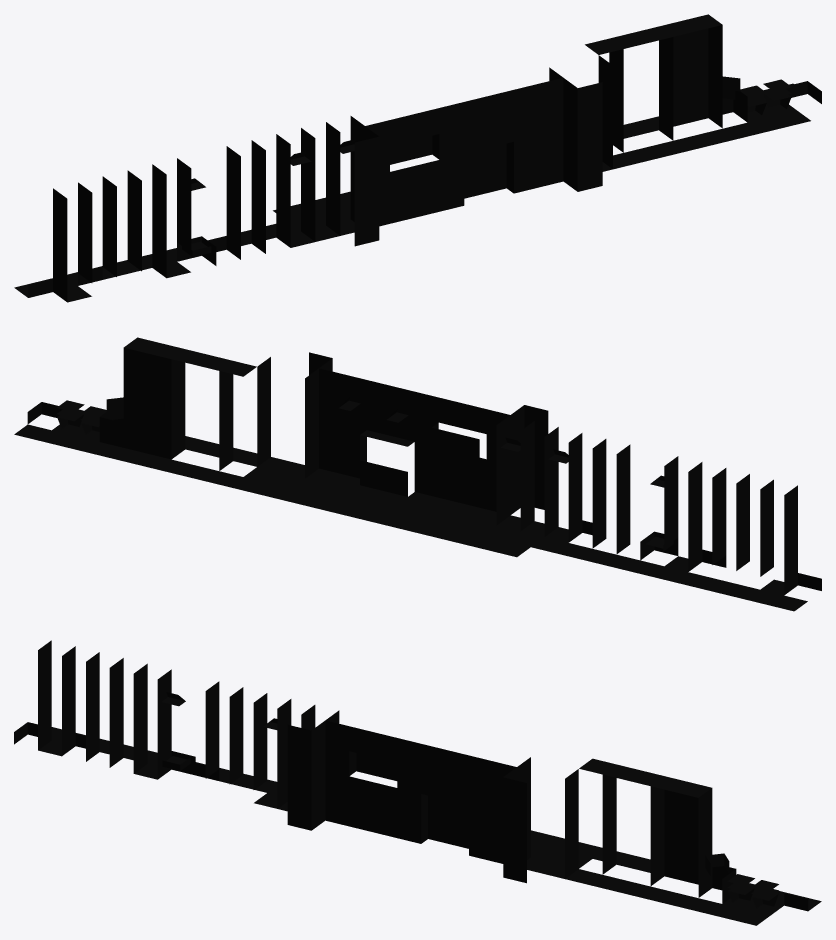
The model's file is catalog.obj.
3 renders of one model, top to bottom at view 1: azimuth 30°, elevation 25°; view 2: azimuth 150°, elevation 25°; view 3: azimuth 330°, elevation 25°, orthographic. The views are drawn at different scales.
Parts seen in each view (by area): view 1: cell_11_0, cell_18_0, cell_4_1, cell_13_0, cell_5_1, cell_16_0, cell_15_0, cell_12_0, cell_17_0, cell_14_0, cell_25_0, cell_21_0 (+16 smaller); view 2: cell_18_0, cell_5_1, cell_11_0, cell_4_1, cell_17_0, cell_16_0, cell_15_0, cell_12_0, cell_13_0, cell_14_0, cell_25_0, cell_21_0 (+17 smaller); view 3: cell_18_0, cell_11_0, cell_5_1, cell_4_1, cell_14_0, cell_17_0, cell_15_0, cell_12_0, cell_16_0, cell_25_0, cell_13_0, cell_26_0 (+15 smaller).
Part boxes in pixels (x1=…): cell_11_0: x1=538, y1=69, x2=602, y2=191; cell_18_0: x1=350, y1=116, x2=389, y2=246; cell_4_1: x1=683, y1=14, x2=722, y2=128; cell_13_0: x1=482, y1=90, x2=513, y2=194; cell_5_1: x1=659, y1=20, x2=697, y2=140; cell_16_0: x1=407, y1=108, x2=439, y2=217; cell_15_0: x1=439, y1=102, x2=464, y2=211; cell_12_0: x1=514, y1=84, x2=538, y2=193; cell_17_0: x1=390, y1=114, x2=414, y2=223; cell_14_0: x1=464, y1=96, x2=488, y2=198; cell_25_0: x1=177, y1=158, x2=216, y2=265; cell_21_0: x1=290, y1=128, x2=315, y2=247; cell_18_0: x1=473, y1=405, x2=548, y2=525; cell_5_1: x1=147, y1=343, x2=185, y2=459; cell_11_0: x1=305, y1=352, x2=342, y2=484; cell_4_1: x1=123, y1=337, x2=160, y2=453; cell_17_0: x1=449, y1=403, x2=486, y2=519; cell_16_0: x1=425, y1=397, x2=462, y2=513; cell_15_0: x1=401, y1=391, x2=438, y2=507; cell_12_0: x1=329, y1=374, x2=366, y2=490; cell_13_0: x1=353, y1=380, x2=390, y2=495; cell_14_0: x1=377, y1=386, x2=414, y2=501; cell_25_0: x1=640, y1=456, x2=678, y2=560; cell_21_0: x1=544, y1=427, x2=568, y2=542; cell_18_0: x1=287, y1=710, x2=349, y2=830; cell_11_0: x1=493, y1=758, x2=530, y2=883; cell_5_1: x1=650, y1=776, x2=688, y2=885; cell_4_1: x1=675, y1=782, x2=712, y2=897; cell_14_0: x1=421, y1=744, x2=451, y2=844; cell_17_0: x1=349, y1=726, x2=380, y2=831; cell_15_0: x1=397, y1=738, x2=421, y2=843; cell_12_0: x1=469, y1=755, x2=492, y2=861; cell_16_0: x1=373, y1=732, x2=397, y2=837; cell_25_0: x1=157, y1=669, x2=195, y2=779; cell_13_0: x1=445, y1=749, x2=468, y2=848; cell_26_0: x1=133, y1=663, x2=157, y2=779.
Bounding box in the file's own units: 0.5 × 0.0625 × 0.0625.
Materials: 33 (33 with a texture image).
